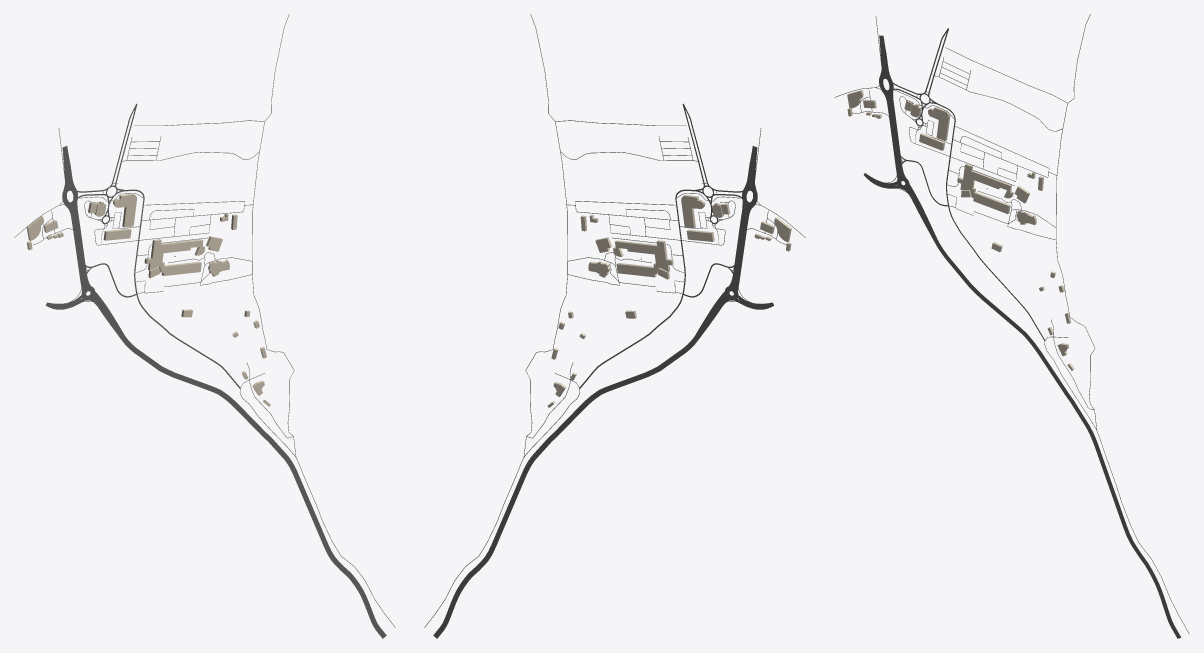
File: historic-palestine-13_34_3551_3282.glb
3 views of the same model, side by side, from view 1: azimuth 30°, elevation 25°; view 2: azimuth 150°, elevation 25°; view 3: azimuth 330°, elevation 25° (orthographic). The views are drawn at different scales.
Parts seen in each view (by area): view 1: Road 90, Building_.012; view 2: Road 90, Building_.012; view 3: Road 90, Building_.012.
Part boxes in pixels (x1,y1,x2,y2): Road 90: (122, 336, 386, 638); Building_.012: (144, 239, 205, 275); Road 90: (433, 336, 697, 638); Building_.012: (613, 240, 673, 277); Road 90: (934, 240, 1180, 638); Building_.012: (957, 163, 1013, 213).
Bounding box in the file's own units: 983 × 1595 × 8.7.
